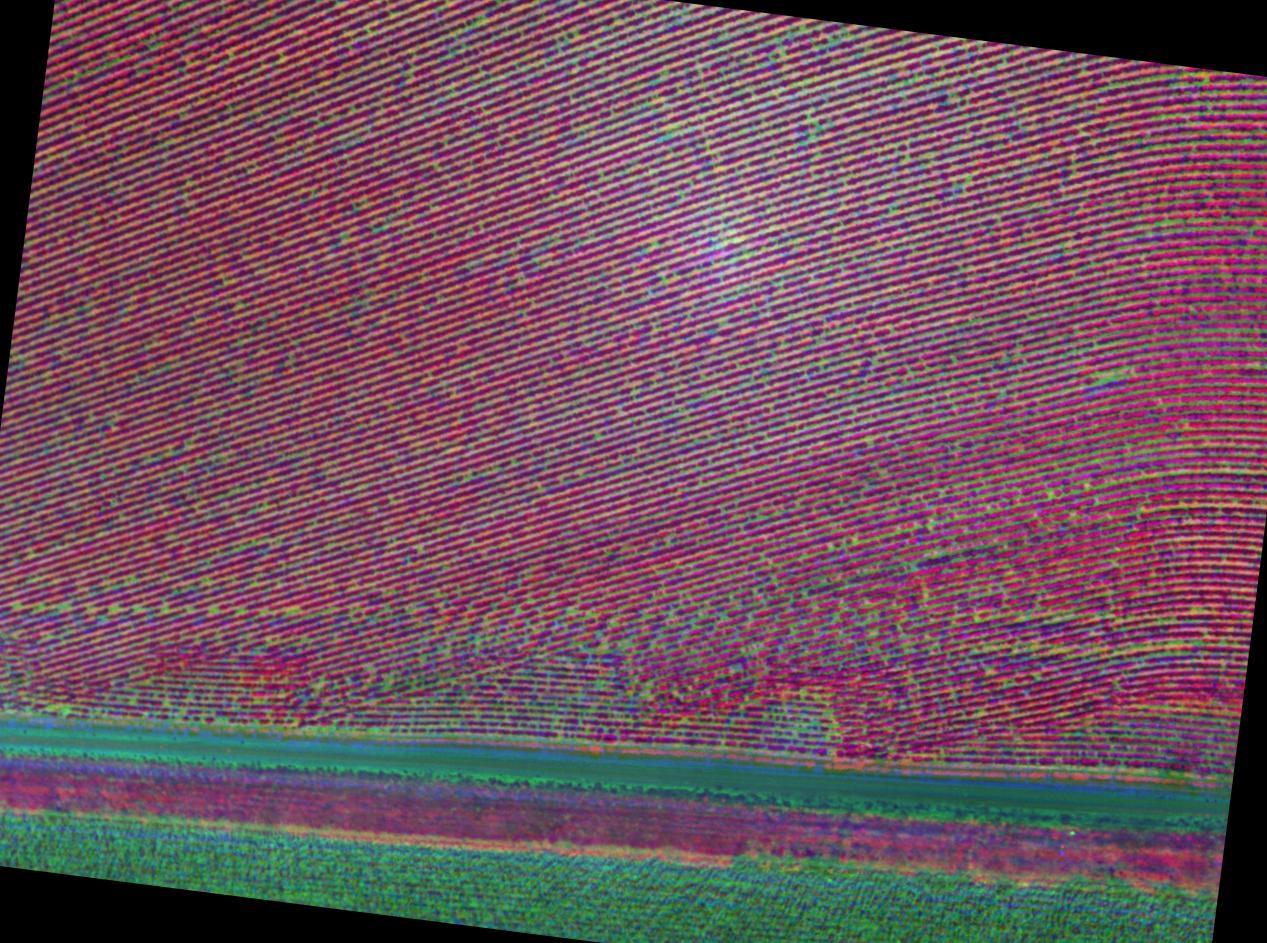dc: (1100, 370, 1125, 381), (286, 608, 296, 614), (911, 561, 917, 570), (870, 631, 878, 637), (852, 536, 857, 544)
